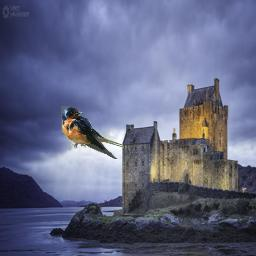Swallow: (61, 106, 131, 159)
